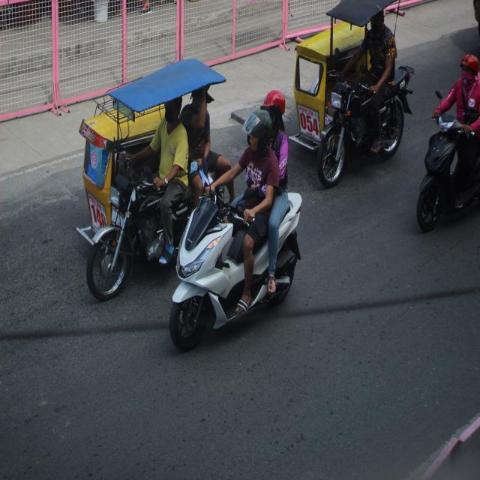motorcycle: (169, 88, 304, 354), (415, 93, 478, 231)
